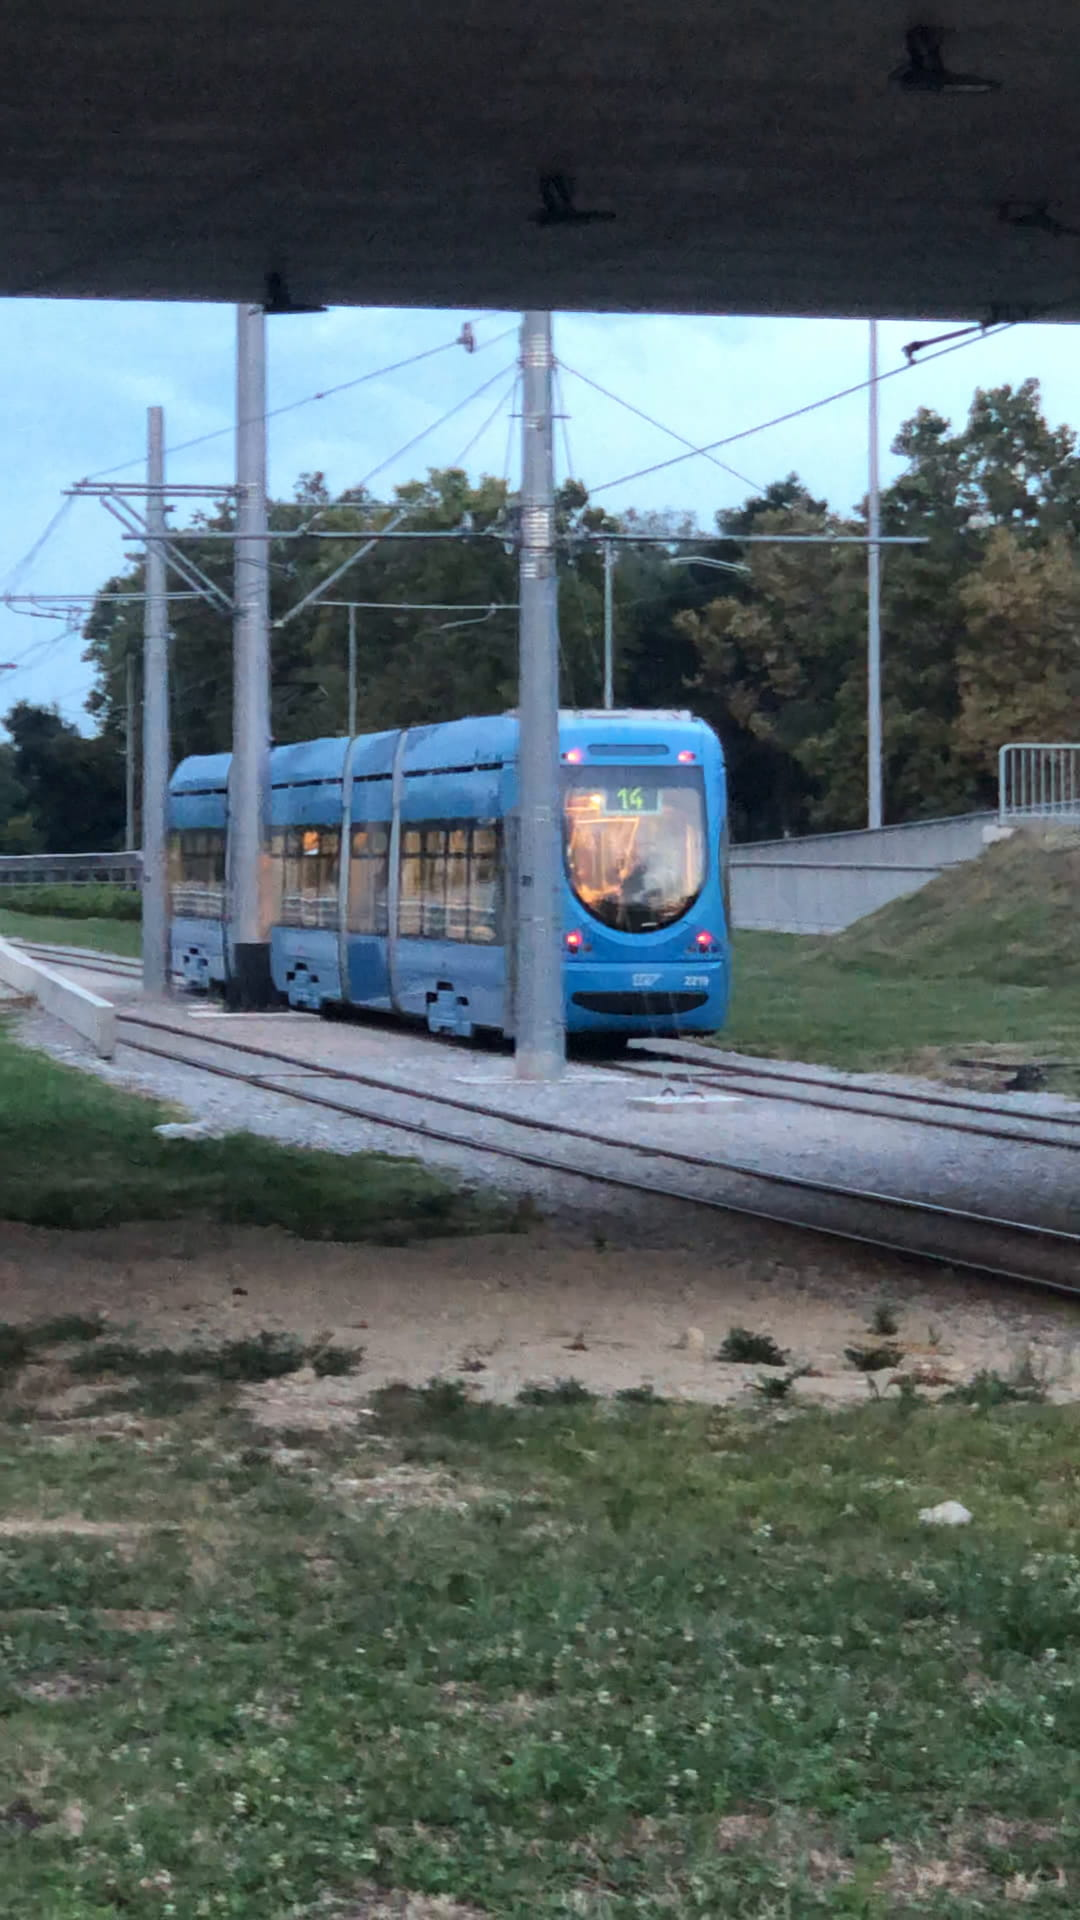tramvaj: (165, 703, 738, 1048)
